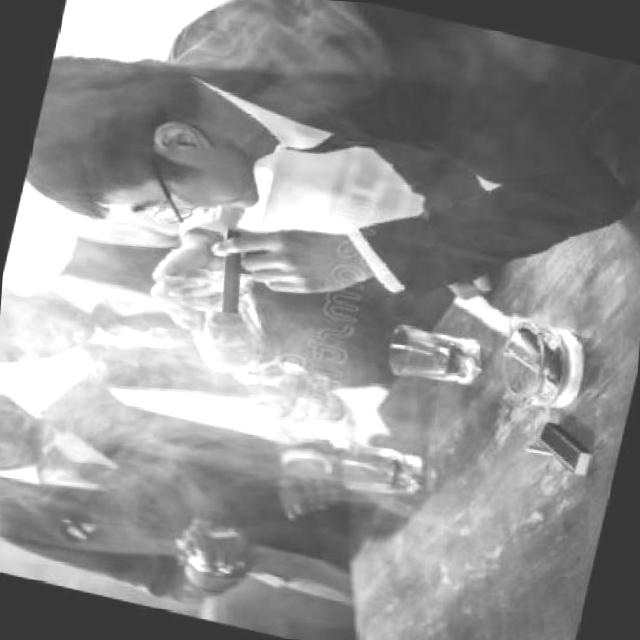smoke: (203, 226, 258, 323)
